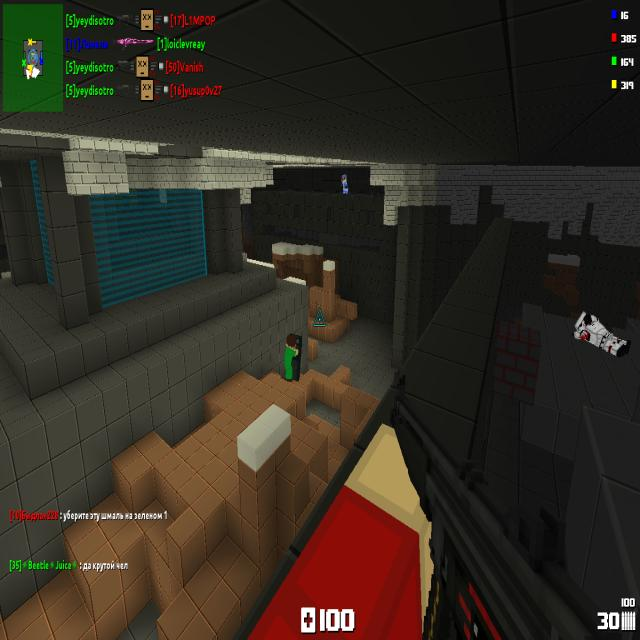enemy: (284, 334, 298, 382), (341, 174, 348, 195)
